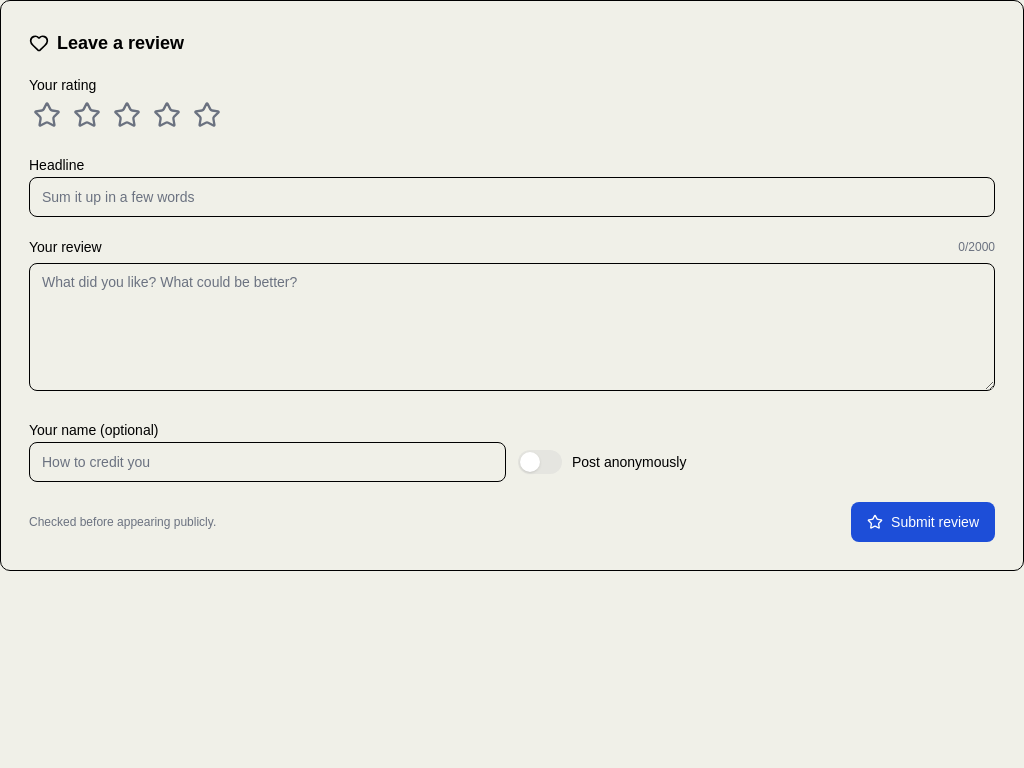
ReviewForm › blocks submit without a rating and shows an error
Type "Nice" into the field labelled "Headline" at (512, 197), box [29,177,995,217]
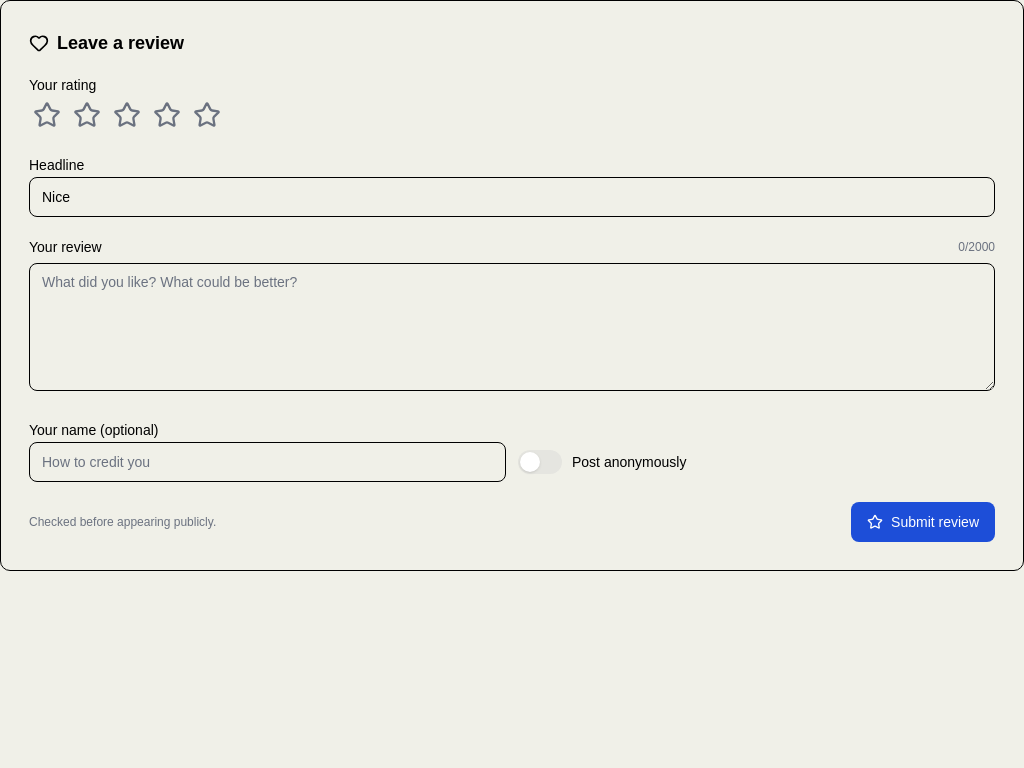
Type "A perfectly long enough review body for validation." into the text box labelled "Your review" at (512, 327), box [29,263,995,391]
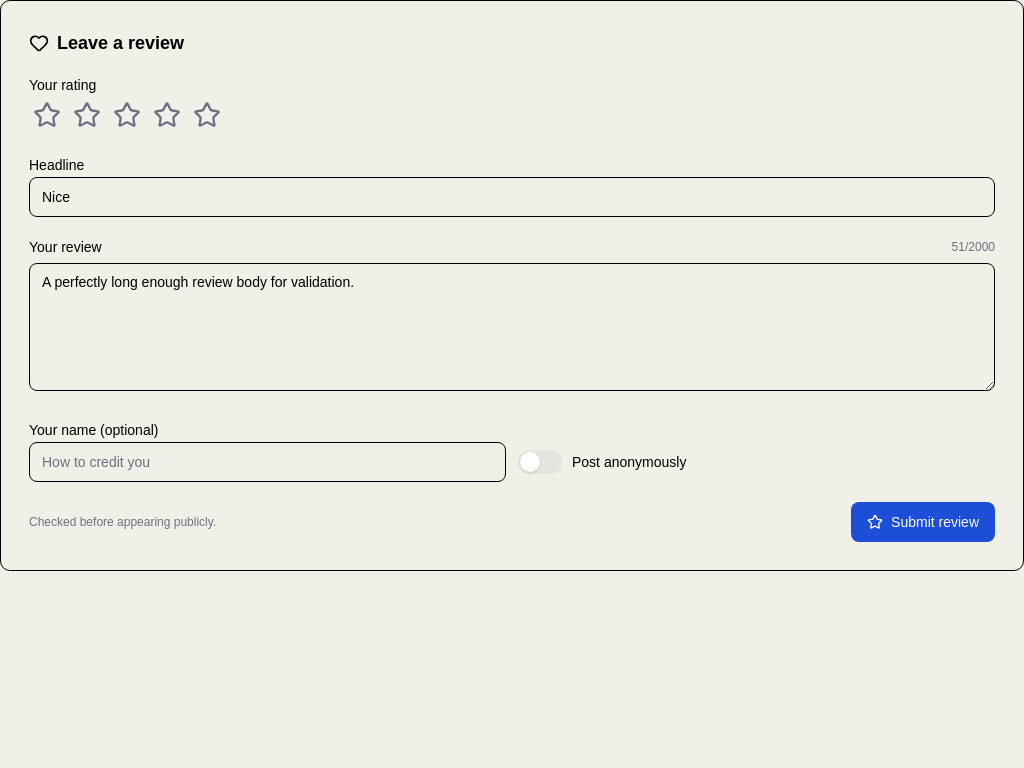
Click the button "Submit review" at (923, 522), box [851,502,995,542]
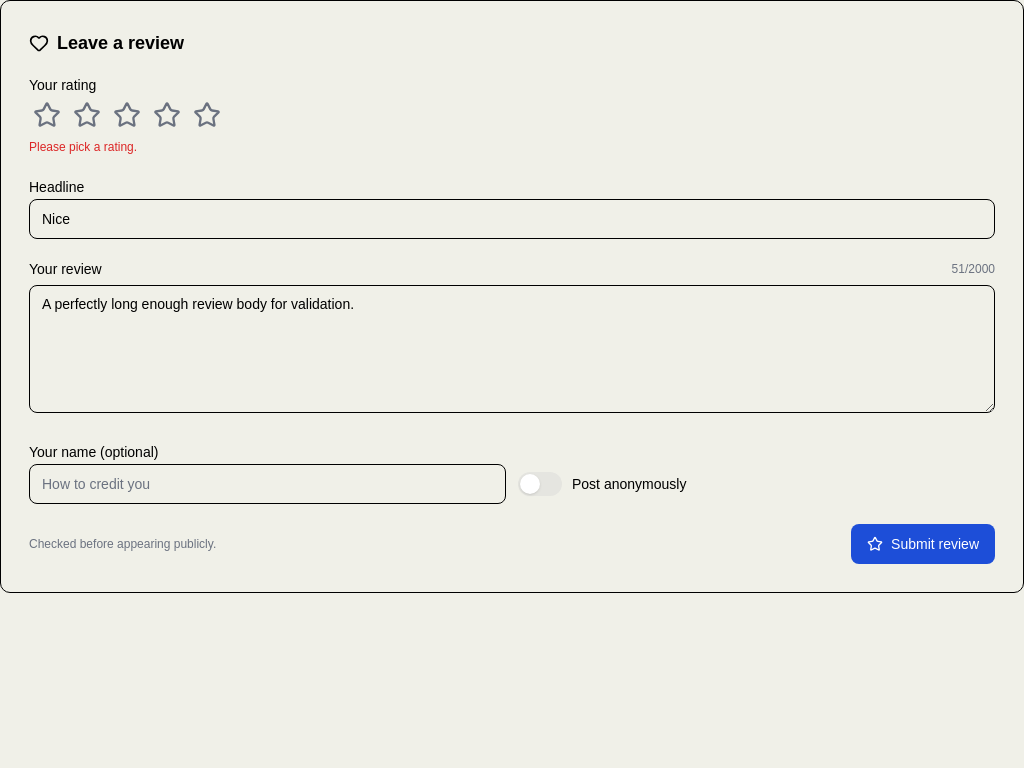
Expected: the text "Please pick a rating." is shown, [29,140,137,154]
